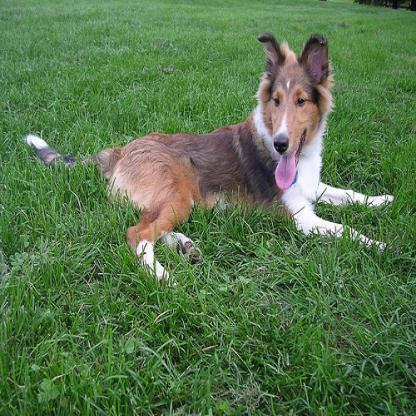Shetland_sheepdog: (13, 28, 394, 287)
